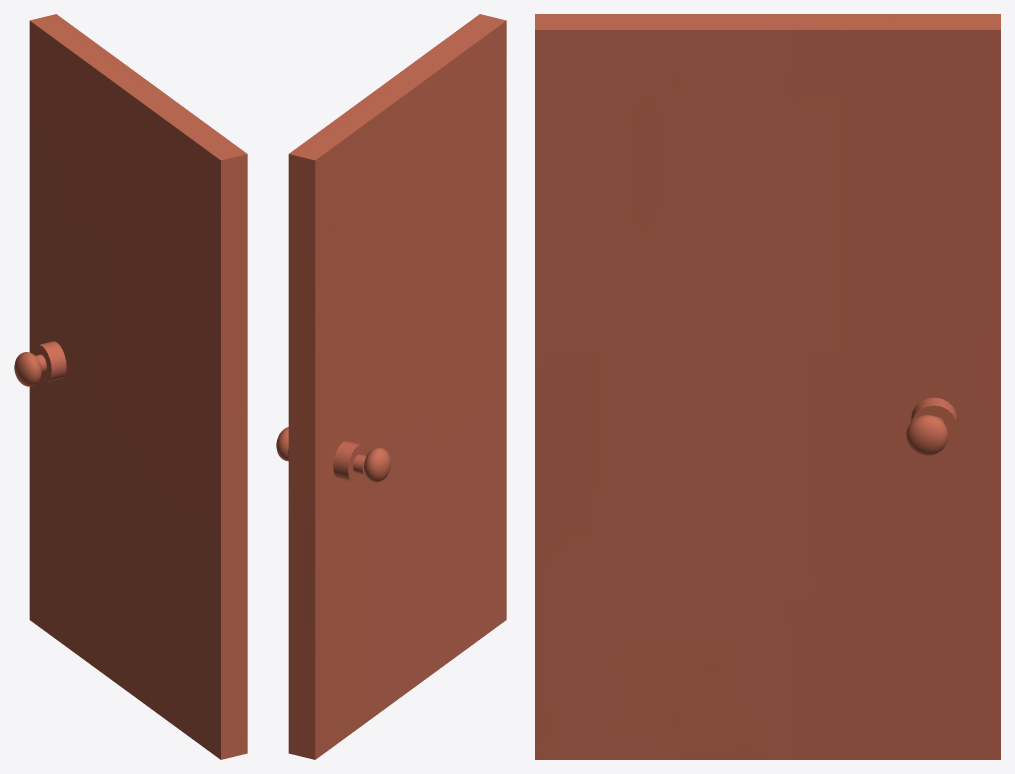
File: principal.obj
3 views of the same model, side by side, from view 1: azimuth 30°, elevation 25°; view 2: azimuth 150°, elevation 25°; view 3: azimuth 270°, elevation 25° (orthographic). The views are drawn at different scales.
Parts seen in each view (by area): view 1: pSphere3; view 2: pSphere3; view 3: pSphere3.
Part boxes in pixels (box(x1,y1,x2,y2)): pSphere3: box(14, 14, 247, 759); pSphere3: box(276, 14, 506, 759); pSphere3: box(535, 14, 1000, 759).
Size of the model in its own units: 1.07 by 5.63 by 3.26.
1 material, 1 textured.
